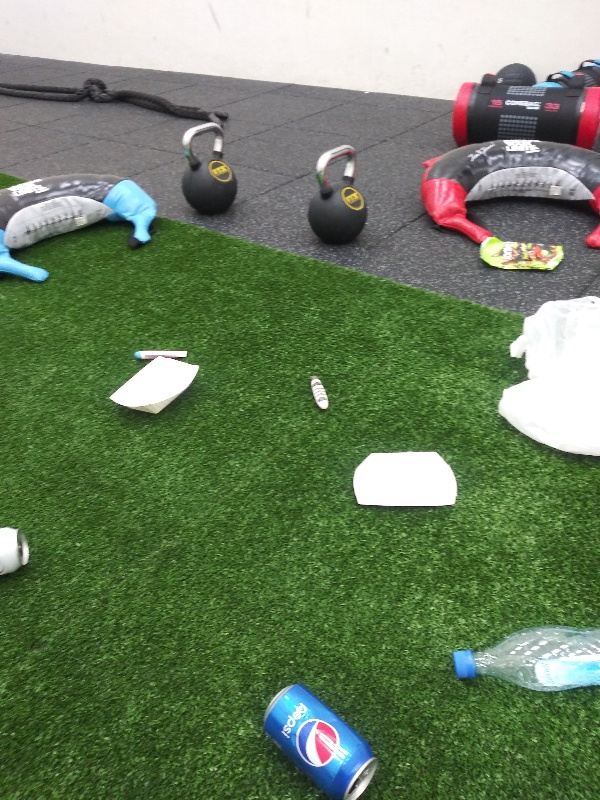bag: (476, 232, 567, 277)
bottle: (448, 621, 600, 691)
can: (252, 676, 388, 799), (1, 520, 33, 578)
plate: (353, 450, 460, 516), (105, 353, 210, 418)
